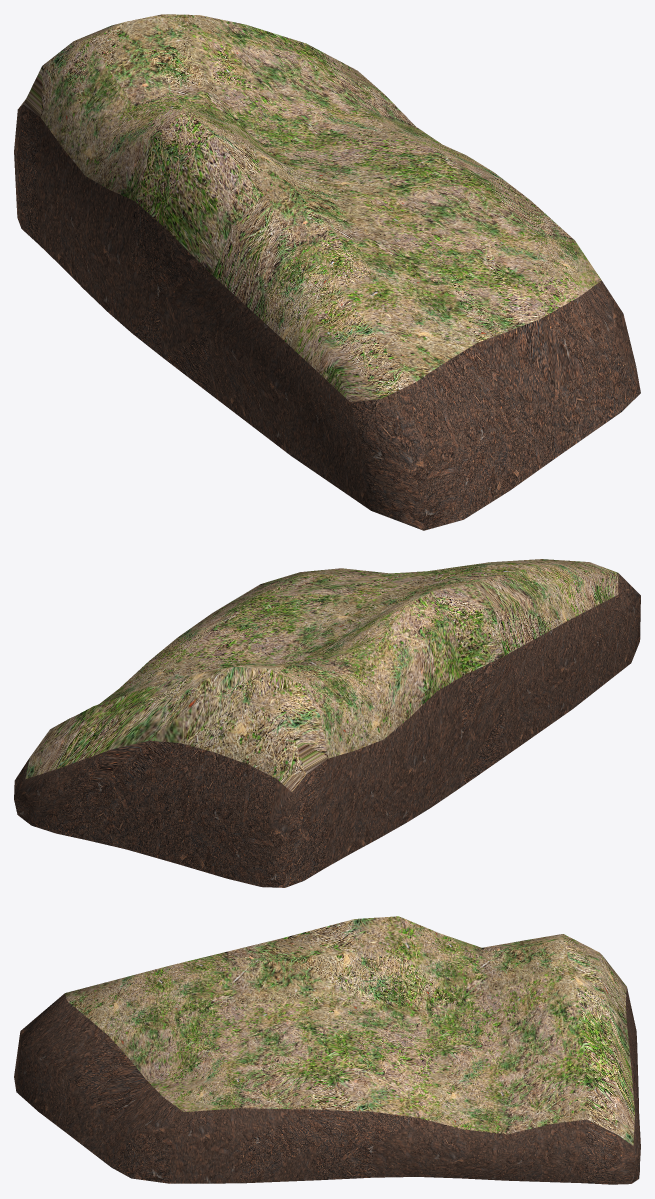
The picture shows the model from 3 angles, top to bottom: view 1: azimuth 30°, elevation 25°; view 2: azimuth 150°, elevation 25°; view 3: azimuth 270°, elevation 25°; orthographic projection. The views are drawn at different scales.
Visible parts, largest first — view 1: Plane009_grass_0, Plane009_dirt_0; view 2: Plane009_grass_0, Plane009_dirt_0; view 3: Plane009_grass_0, Plane009_dirt_0.
Boxes of the visible parts, <box> form: Plane009_grass_0: <box>18,14,601,402</box>; Plane009_dirt_0: <box>14,104,640,530</box>; Plane009_grass_0: <box>25,559,618,791</box>; Plane009_dirt_0: <box>14,573,640,887</box>; Plane009_grass_0: <box>65,916,634,1145</box>; Plane009_dirt_0: <box>14,988,640,1184</box>.
Size of the model in its own units: 35.22 by 20.49 by 69.17.
2 materials, 2 textured.
